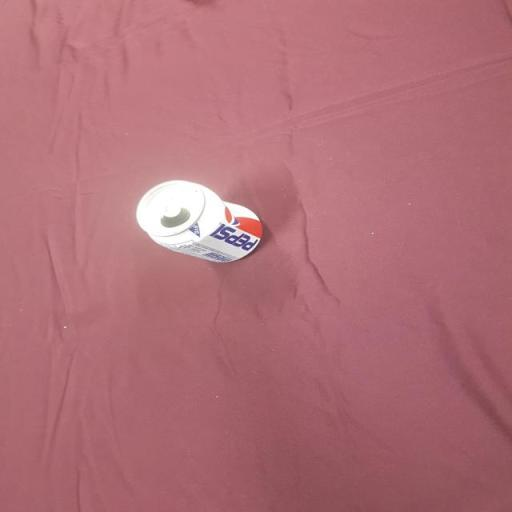metal: (124, 176, 285, 274)
